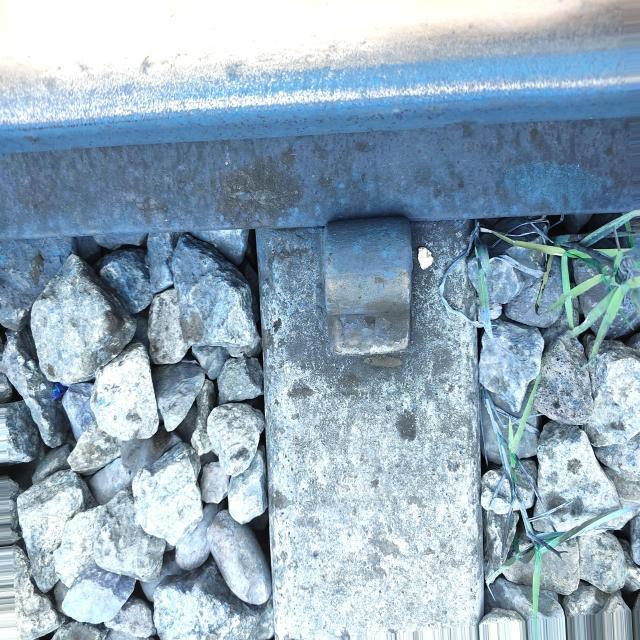Missing Fastener: (273, 190, 445, 387)
